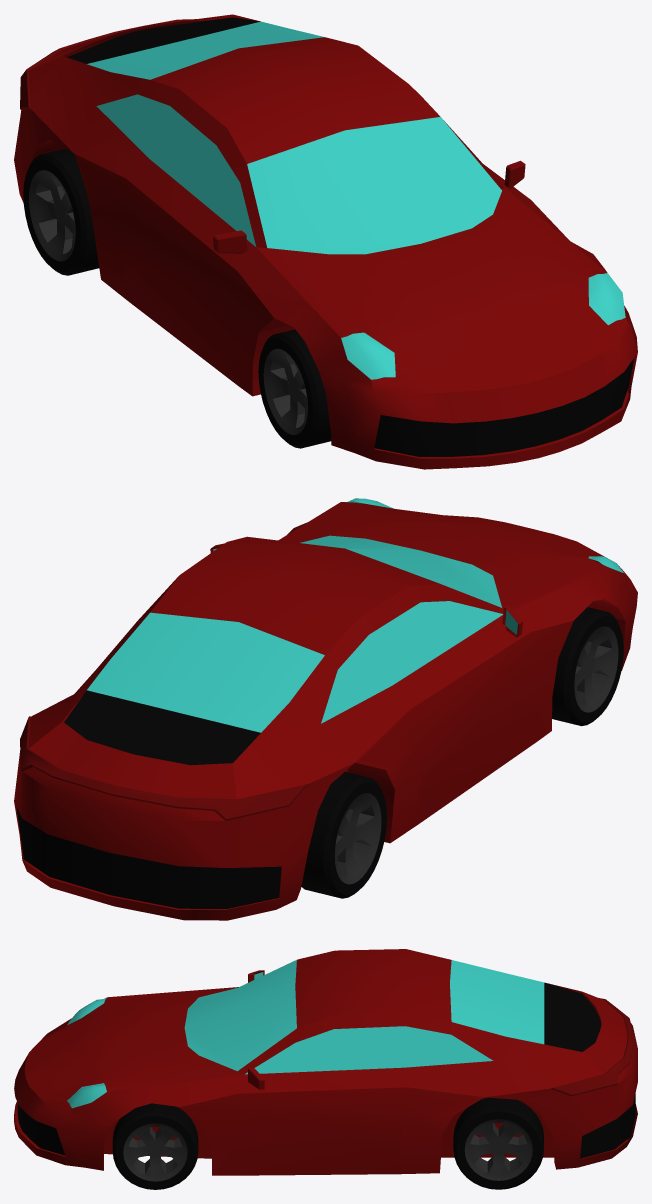
Rendered from lowpoly_car.obj.
3 views of the same model, one above another, from view 1: azimuth 30°, elevation 25°; view 2: azimuth 150°, elevation 25°; view 3: azimuth 270°, elevation 25° (orthographic). The views are drawn at different scales.
Visible parts, largest first — view 1: car_body, windsheild_(front_window), front_rear_bumper, side_glasses, back_window, back_tier_(right), front_tier_(right), car_headlights, back_rim_(right), rear_window, front_rim_(right), side_windows_ (+1 smaller); view 2: car_body, back_window, rear_bumper, side_glasses, rear_window, back_tier_(right), car_backlight, windsheild_(front_window), front_tier_(right), back_rim_(right), front_rim_(right); view 3: car_body, windsheild_(front_window), side_glasses, back_window, back_tier, front_tier, back_trim, rear_window, front_trim, rear_bumper, car_backlight, front_rear_bumper (+2 smaller).
Boxes of the visible parts, <box> form: car_body: <box>14,14,637,469</box>; windsheild_(front_window): <box>247,117,501,254</box>; front_rear_bumper: <box>374,358,633,456</box>; side_glasses: <box>96,94,255,246</box>; back_window: <box>87,21,324,79</box>; back_tier_(right): <box>23,148,99,275</box>; front_tier_(right): <box>258,329,331,448</box>; car_headlights: <box>341,273,625,379</box>; back_rim_(right): <box>29,170,75,261</box>; rear_window: <box>67,17,260,63</box>; front_rim_(right): <box>263,348,307,435</box>; side_windows_: <box>213,160,525,253</box>; car_body: <box>14,502,637,920</box>; back_window: <box>87,612,324,732</box>; rear_bumper: <box>16,807,281,908</box>; side_glasses: <box>321,601,503,723</box>; rear_window: <box>64,690,260,765</box>; back_tier_(right): <box>301,771,386,898</box>; car_backlight: <box>20,716,307,820</box>; windsheild_(front_window): <box>300,535,501,607</box>; front_tier_(right): <box>552,607,623,726</box>; back_rim_(right): <box>334,793,381,884</box>; front_rim_(right): <box>574,626,618,712</box>; car_body: <box>14,949,637,1175</box>; windsheild_(front_window): <box>184,960,296,1071</box>; side_glasses: <box>245,1026,493,1074</box>; back_window: <box>450,960,544,1044</box>; back_tier: <box>453,1097,543,1189</box>; front_tier: <box>112,1103,198,1189</box>; back_trim: <box>464,1119,532,1180</box>; rear_window: <box>544,982,601,1051</box>; front_trim: <box>123,1123,187,1181</box>; rear_bumper: <box>580,1093,635,1158</box>; car_backlight: <box>551,996,634,1096</box>; front_rear_bumper: <box>17,1103,64,1155</box>.
Size of the model in its own units: 3.57 by 2.47 by 8.54.
